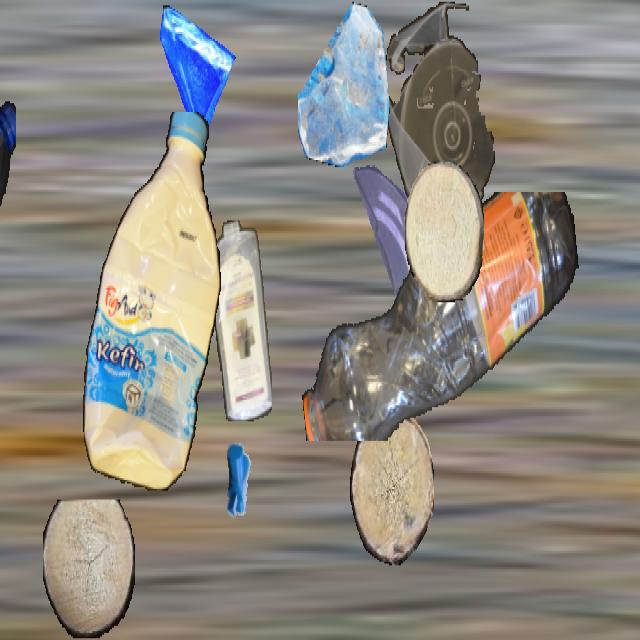glass: (298, 2, 390, 165), (349, 158, 433, 308), (154, 2, 236, 148)
metal: (208, 428, 270, 538)
plastic: (297, 192, 581, 441), (79, 112, 221, 489), (384, 2, 496, 236), (211, 220, 271, 420), (0, 89, 15, 338)
wood: (350, 412, 434, 566), (43, 500, 135, 638), (405, 162, 483, 300)
